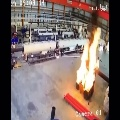fire: (76, 27, 101, 92)
